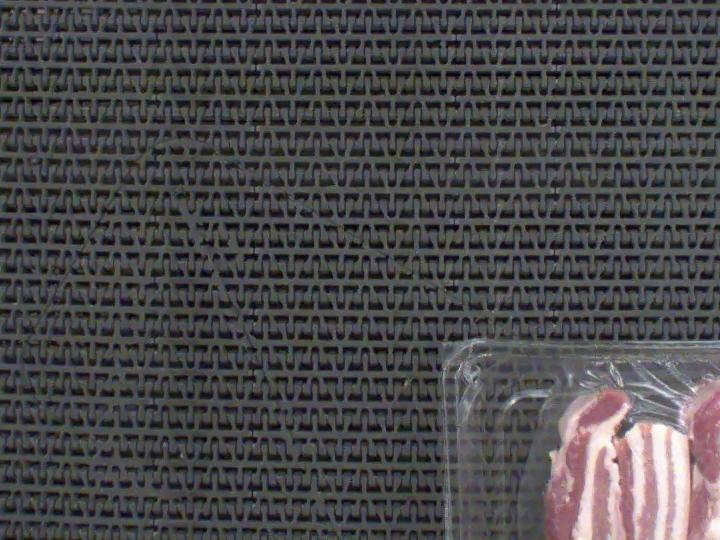unsealed: (520, 345, 720, 540)
